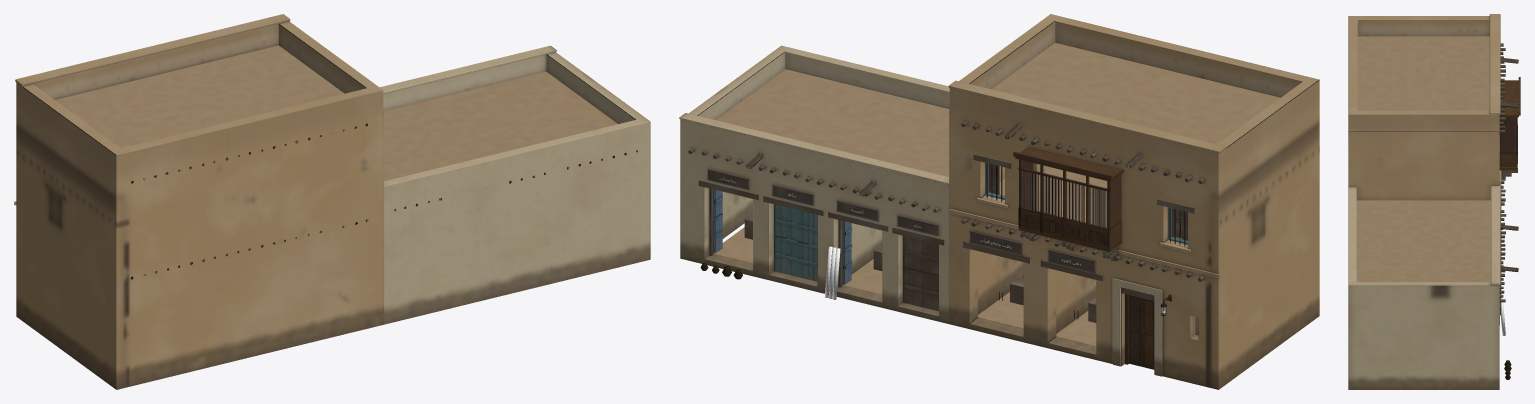
The model's file is souq_bldC.glb.
3 views of the same model, side by side, from view 1: azimuth 30°, elevation 25°; view 2: azimuth 150°, elevation 25°; view 3: azimuth 270°, elevation 25° (orthographic). The views are drawn at different scales.
Visible parts, largest first — view 1: GX_bldC_LOD0; view 2: GX_bldC_LOD0; view 3: GX_bldC_LOD0.
Boxes of the visible parts, x1,y1,x2,y2 form: GX_bldC_LOD0: (14, 14, 650, 389); GX_bldC_LOD0: (679, 14, 1319, 389); GX_bldC_LOD0: (1348, 14, 1520, 389).
Size of what is drawn, in the model's own units: 20.08 by 8.5 by 7.39.
3 materials, 1 textured.
